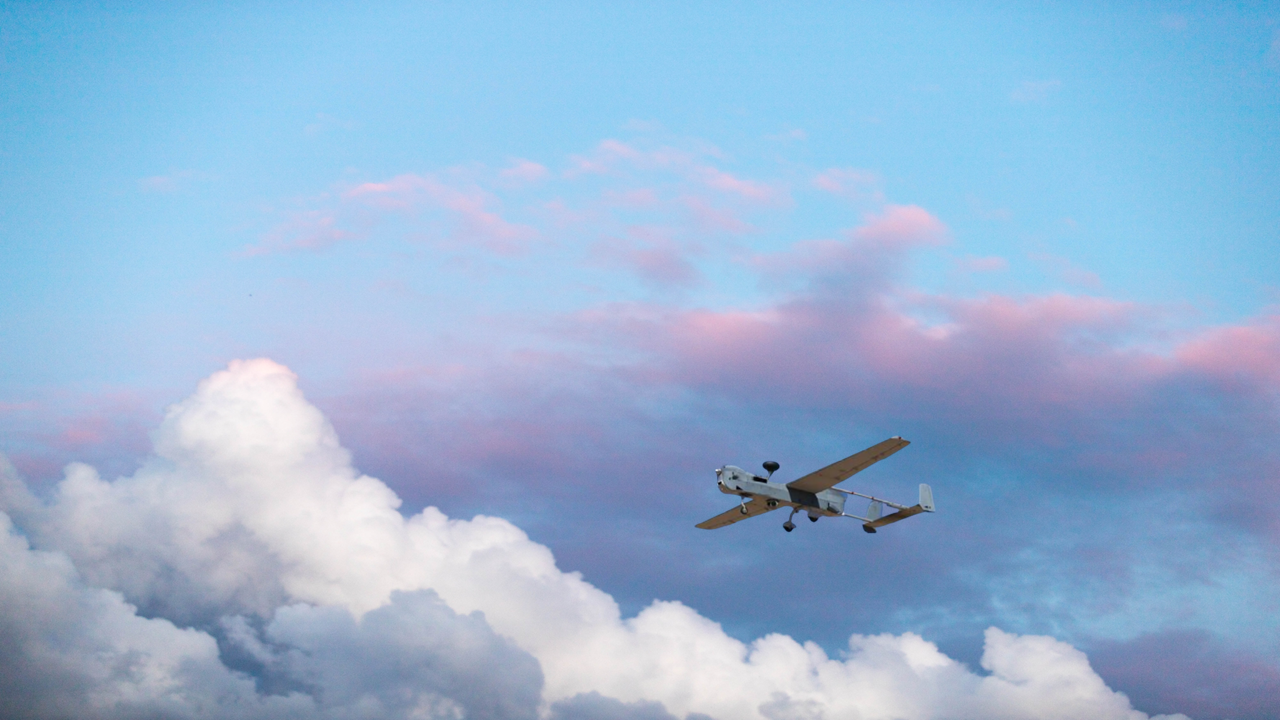military drone: (694, 435, 934, 533)
